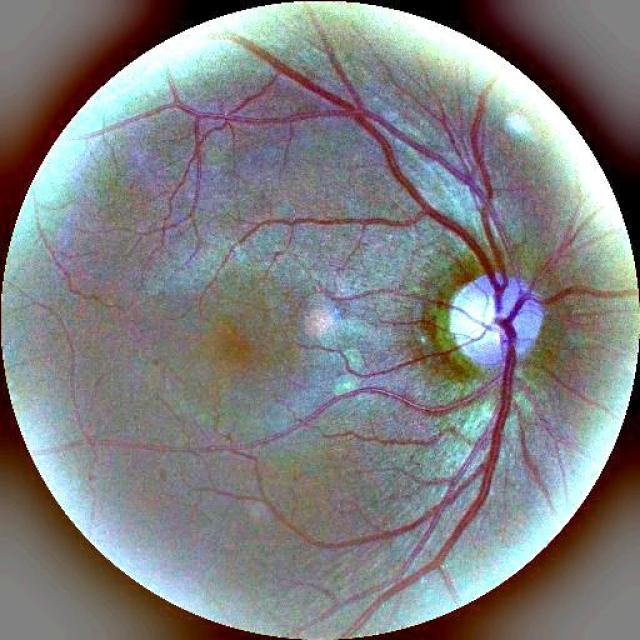Macula: (175, 297, 280, 390)
Nerves: (230, 66, 517, 293), (425, 299, 525, 567)
Optic Disk: (413, 246, 574, 400)
